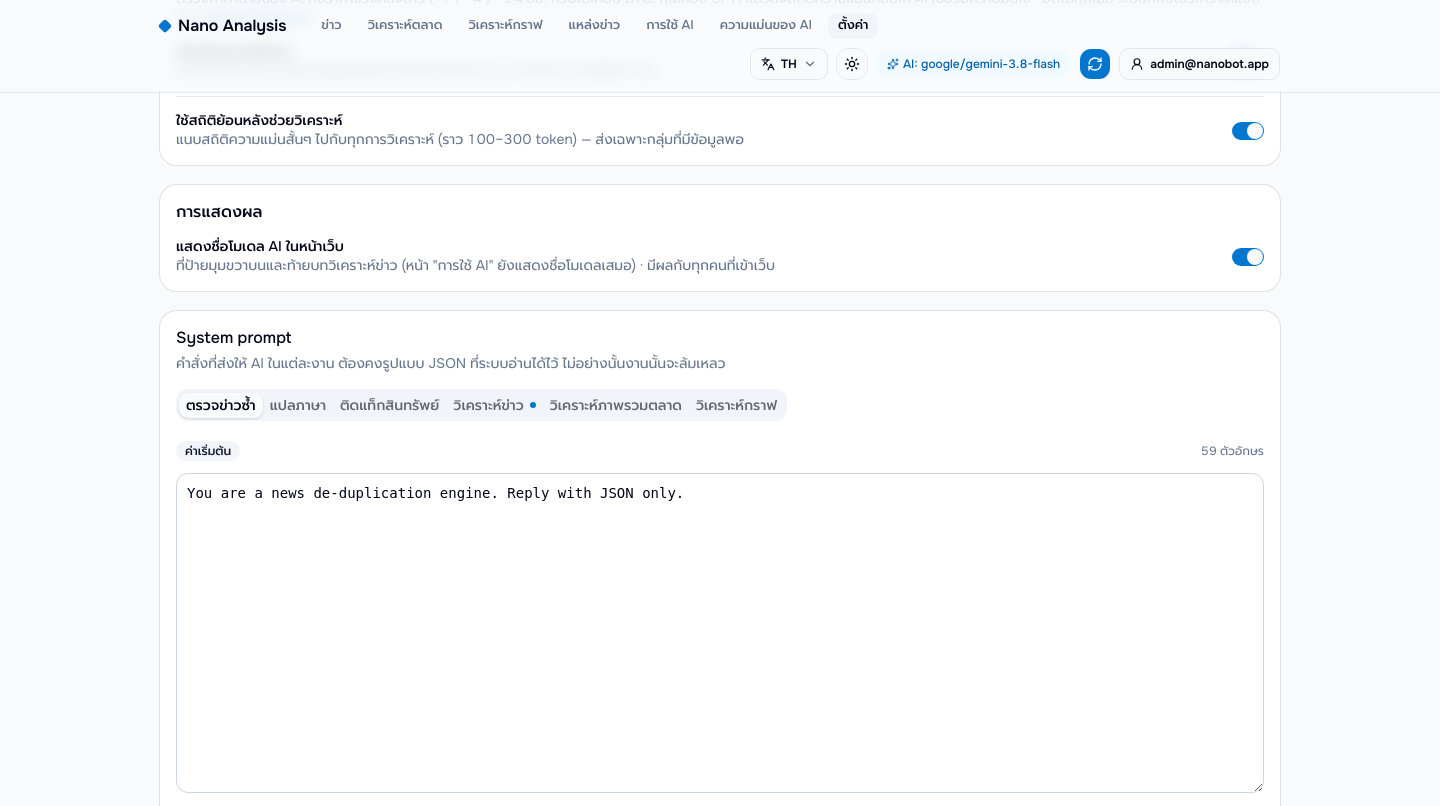
Test case: SettingsPage › shows customised prompts, their default, and resets after confirmation
The width and height of the screenshot is (1440, 806).
(page scrolled)
Click the tab "วิเคราะห์ข่าว" at (495,405), box [446,392,543,418]
(page scrolled)
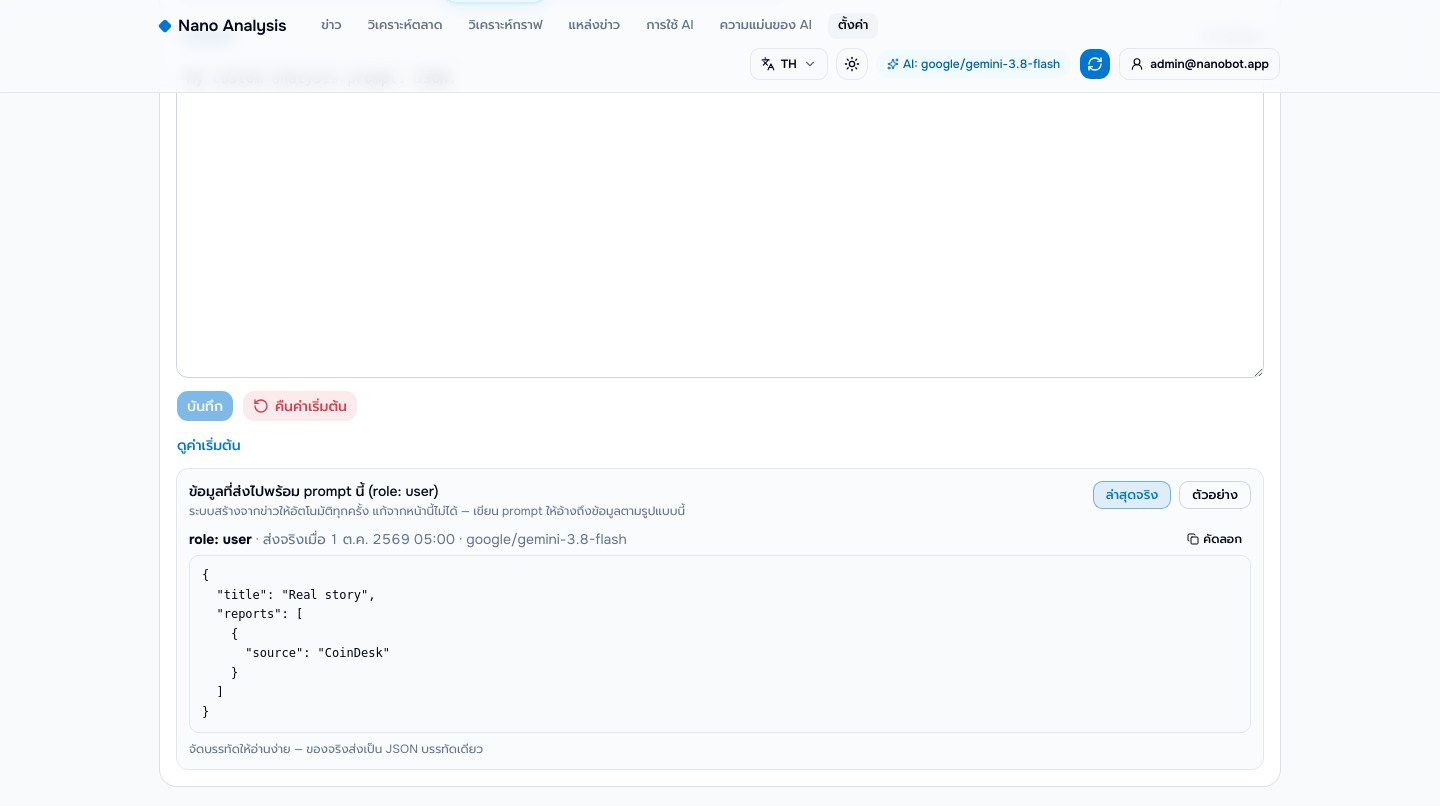
Expected: the text "แก้ไขแล้ว" is shown, [176,26,241,46]
Expected: the text box named "วิเคราะห์ข่าว" holds "My custom analysis prompt. JSON.", [176,58,1264,378]
Click the button "ดูค่าเริ่มต้น" at (209,445), box [176,434,242,456]
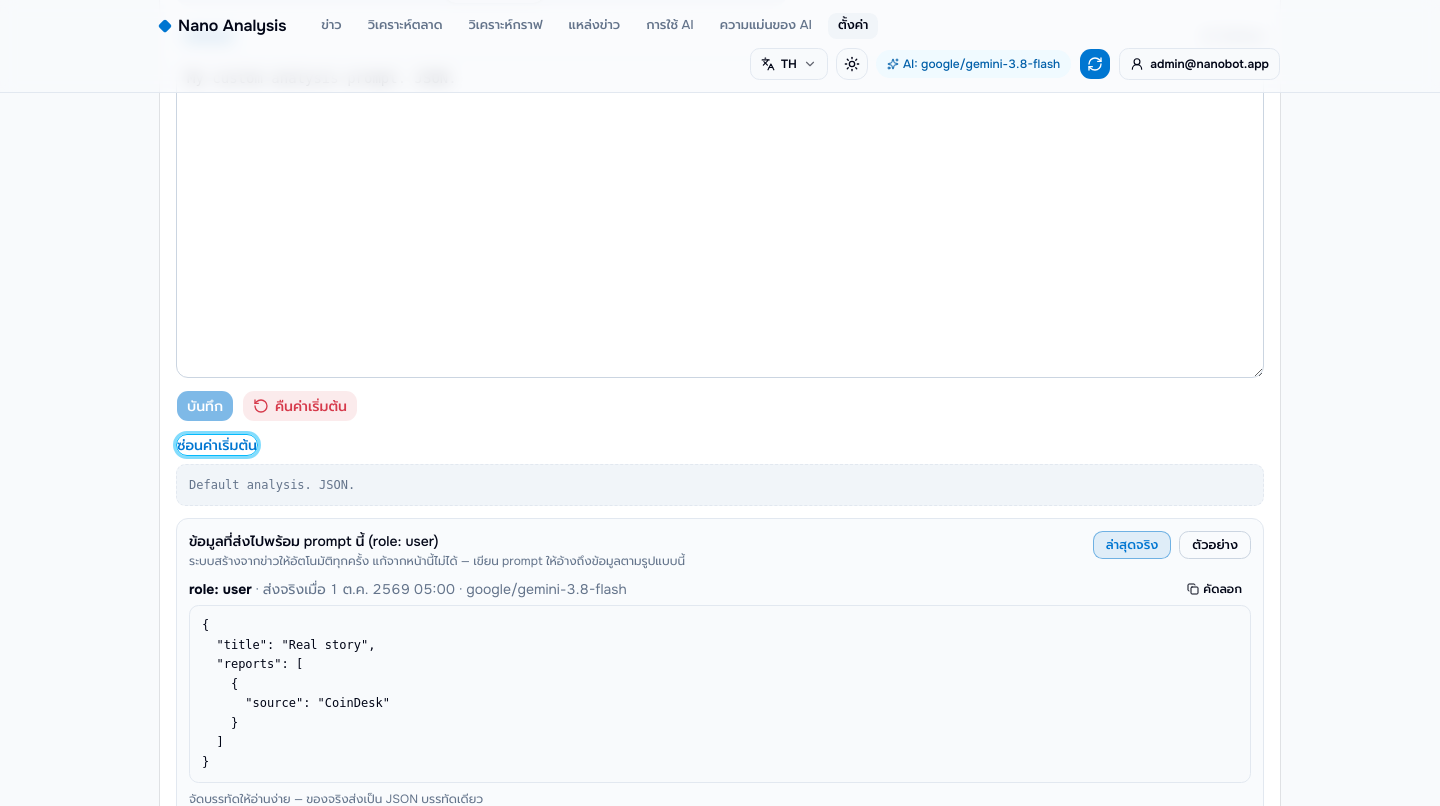
Expected: the text "Default analysis. JSON." is shown, [176,464,1264,506]
Click the button "คืนค่าเริ่มต้น" at (300,406), box [242,390,358,422]
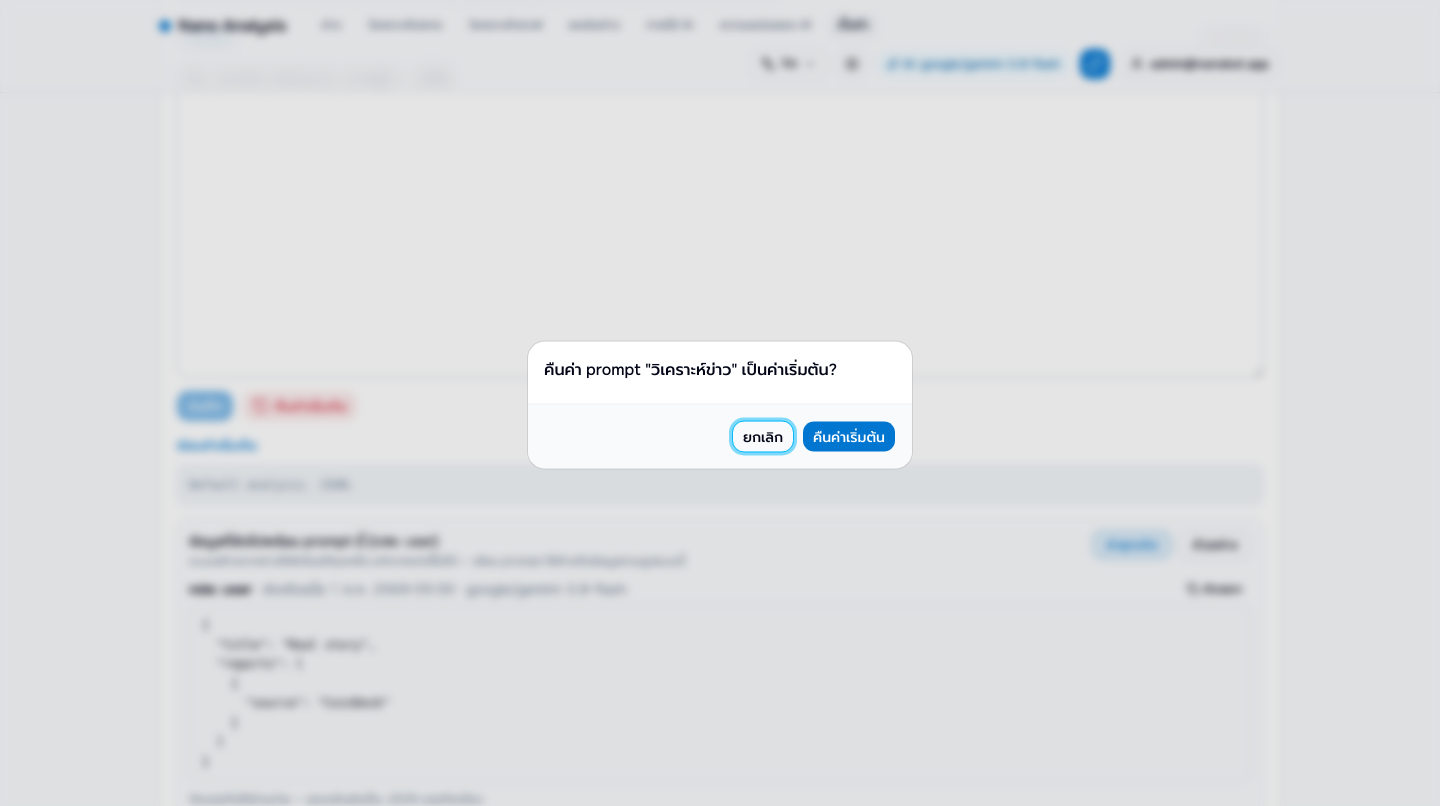
Click the button "คืนค่าเริ่มต้น" at (849,436), box [802,420,896,452]
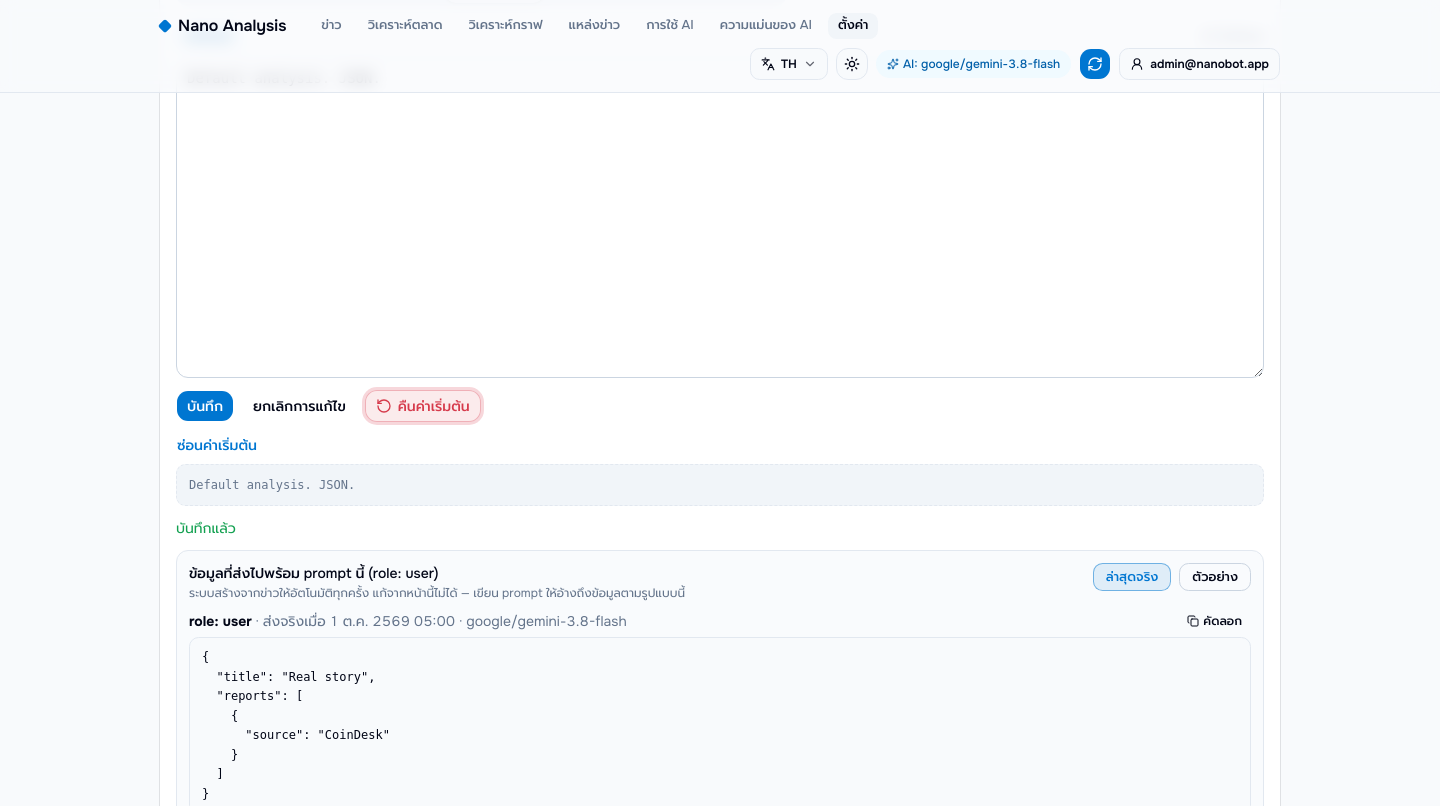
Expected: the text box named "วิเคราะห์ข่าว" holds "Default analysis. JSON.", [176,58,1264,378]
